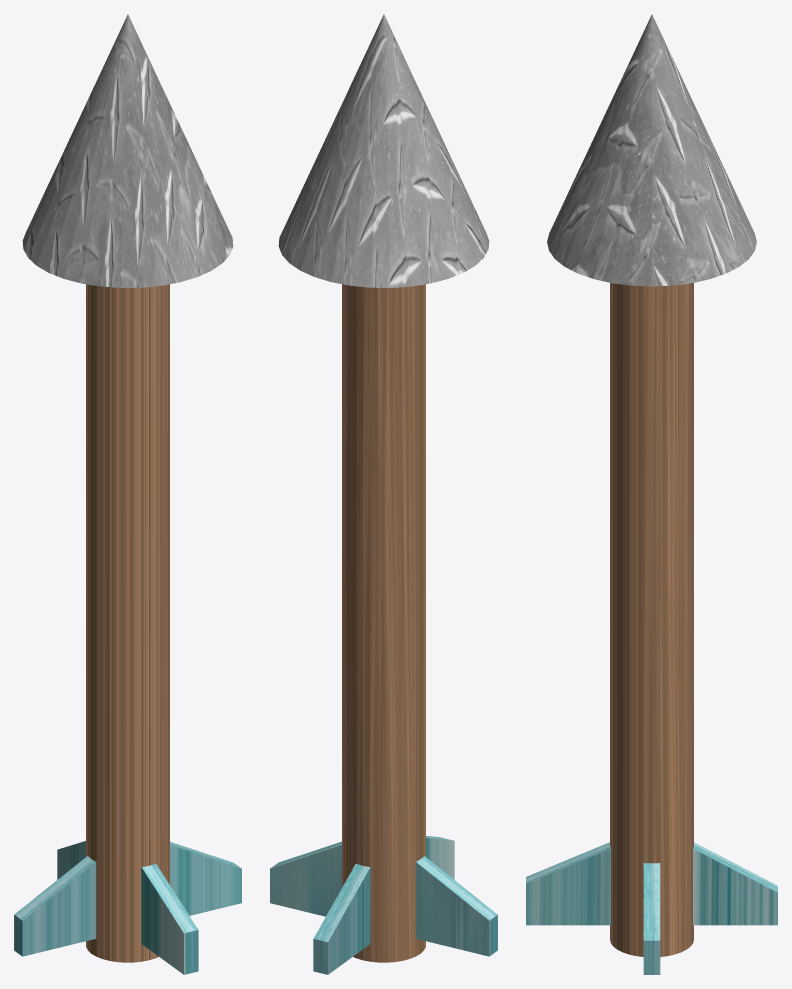
File: arrow2_obj.obj
3 renders of one model, left to right at view 1: azimuth 30°, elevation 25°; view 2: azimuth 150°, elevation 25°; view 3: azimuth 270°, elevation 25°, orthographic.
Visible parts, largest first — view 1: Cone; view 2: Cone; view 3: Cone.
Part boxes in pixels (left/top/right/bottom): Cone: left=14, top=14, right=241, bottom=974; Cone: left=270, top=14, right=497, bottom=974; Cone: left=526, top=14, right=777, bottom=974.
Size of the model in its own units: 0.3 by 1.22 by 0.3.
